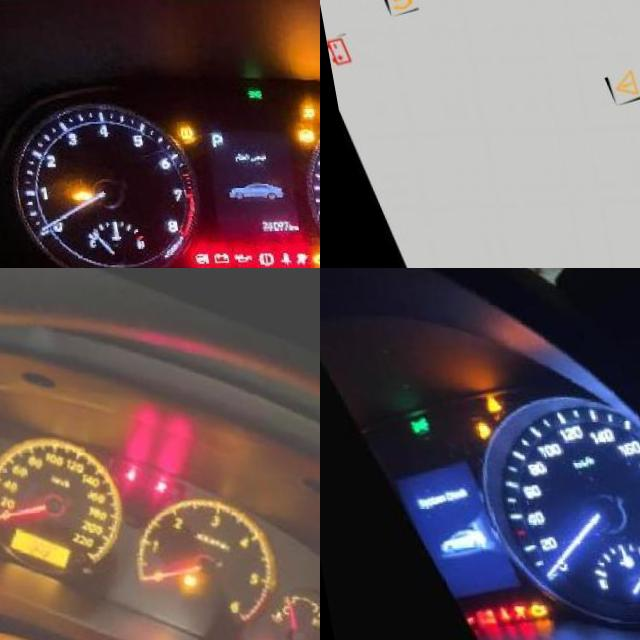Electronic Power Steering: (178, 251, 199, 268)
Engine cooling system: (255, 609, 274, 624)
